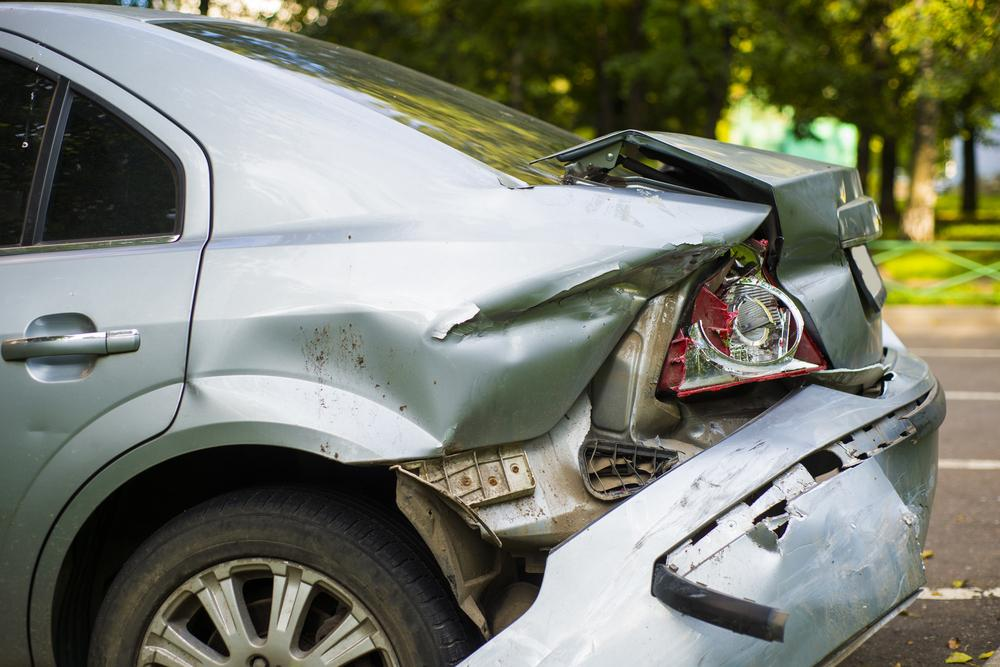dent: (198, 246, 726, 449), (779, 204, 848, 299)
lamp broken: (664, 227, 829, 399)
scratch: (619, 436, 801, 555)
